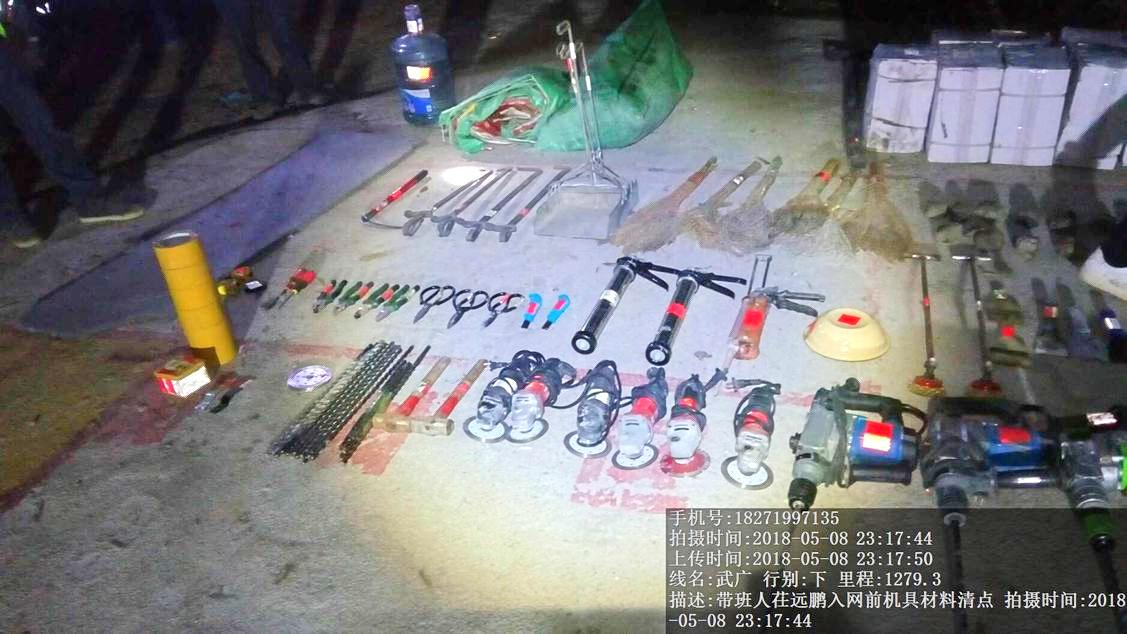DMJ: (715, 368, 791, 493), (651, 371, 718, 486), (556, 355, 623, 459), (501, 356, 562, 447), (618, 373, 667, 470)
DZ: (926, 388, 1066, 509), (784, 383, 922, 505)
SB: (613, 152, 720, 253), (829, 159, 908, 256), (723, 157, 781, 252), (781, 153, 837, 236)
